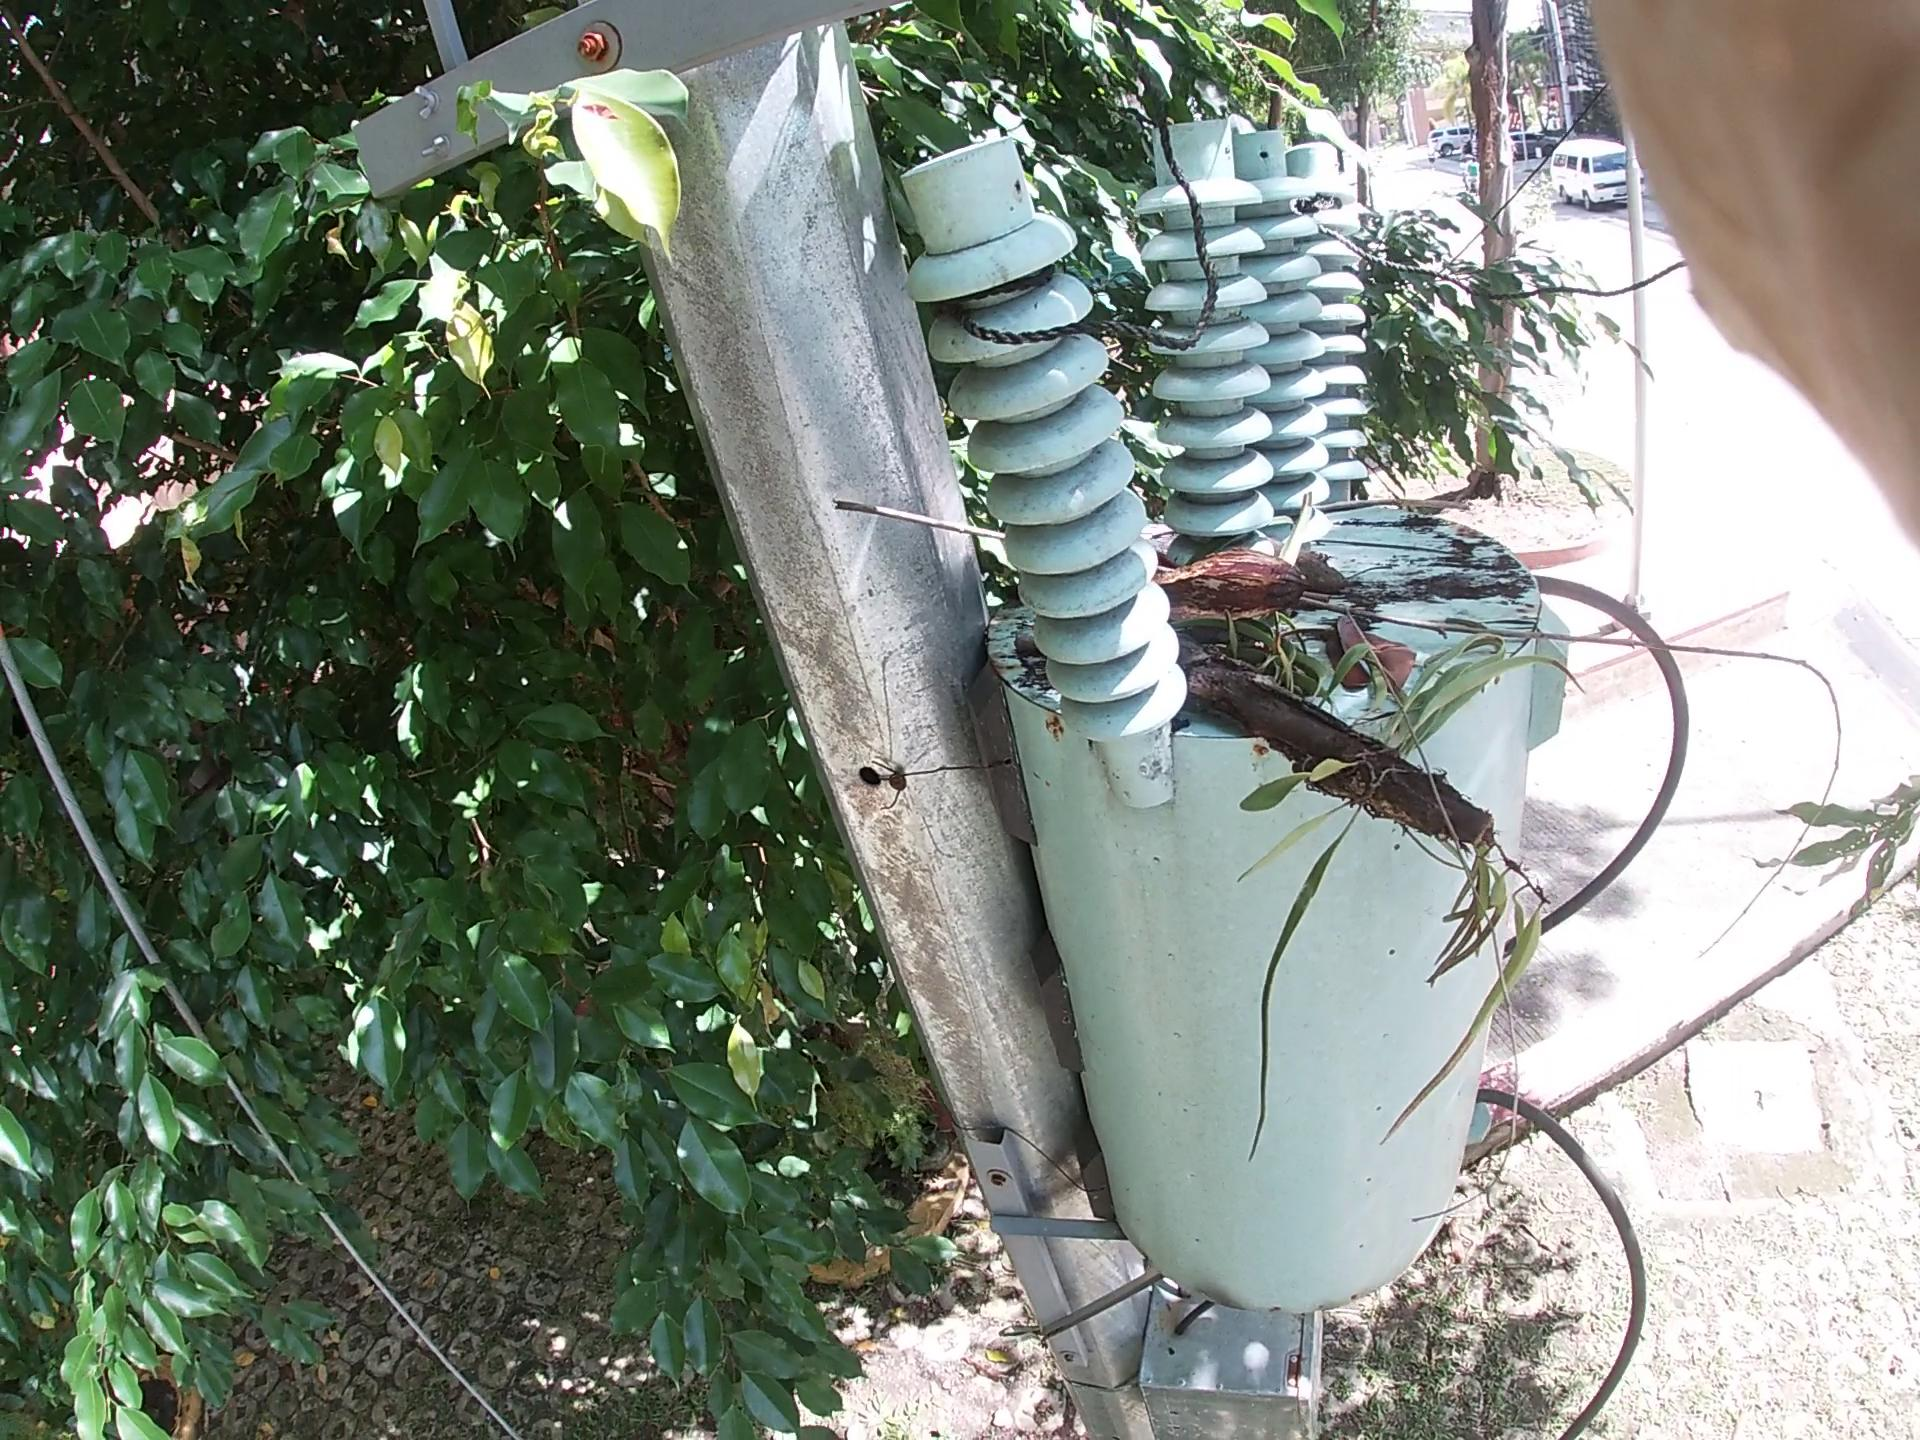branch with leaves: (1150, 551, 1578, 915)
leaf: (1305, 593, 1397, 756)
mahogany fruit: (1161, 492, 1361, 631)
tree branch: (803, 451, 1920, 759), (1261, 442, 1539, 551), (992, 602, 1058, 672)
